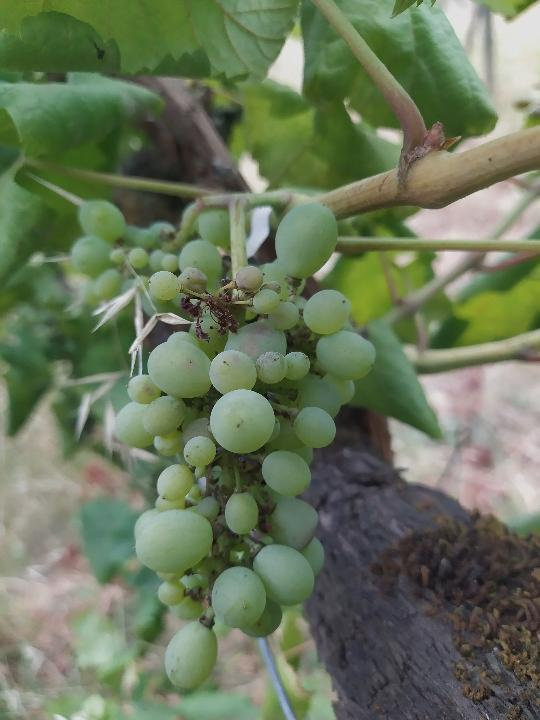grape: (110, 200, 380, 691)
